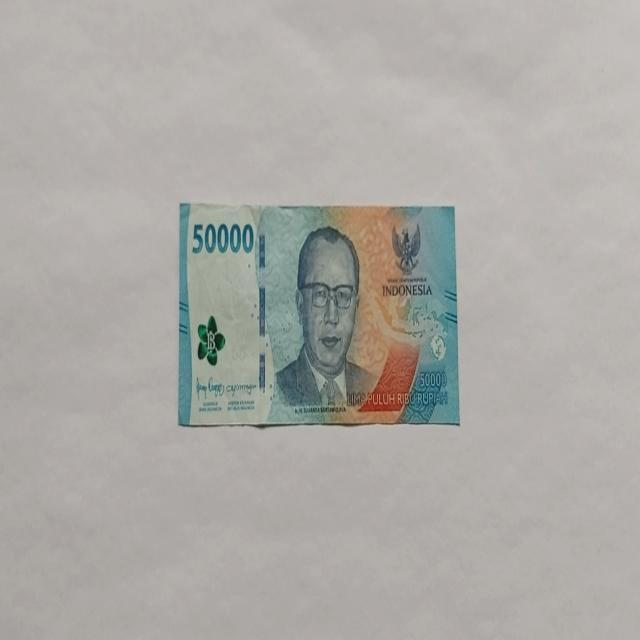lima puluh ribu rupiah: (176, 200, 460, 430), (271, 224, 379, 415)
